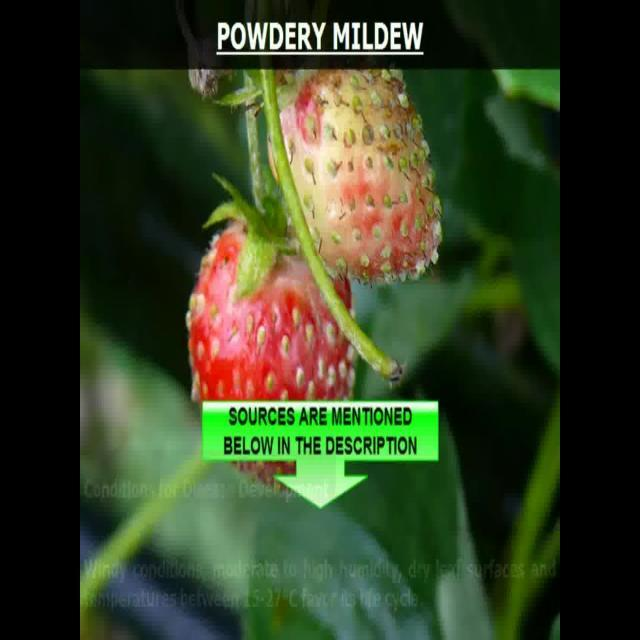Oído: (185, 223, 354, 478), (262, 69, 443, 281)
